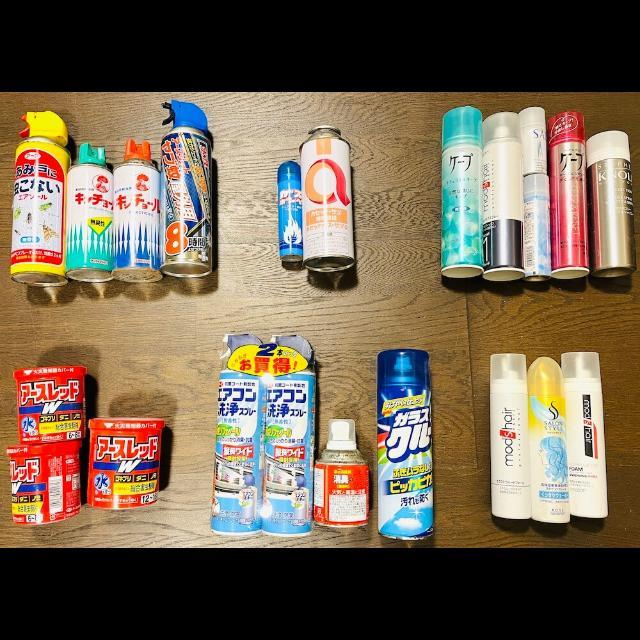chemical_spray_can: (378, 349, 435, 541), (9, 111, 70, 286), (160, 99, 212, 277), (300, 125, 355, 272), (563, 352, 609, 519), (588, 130, 638, 277), (442, 105, 484, 277), (548, 111, 591, 279), (112, 138, 162, 282), (484, 111, 526, 281), (529, 357, 571, 524), (491, 354, 532, 520), (65, 142, 113, 282), (525, 173, 552, 281), (278, 160, 303, 270), (520, 106, 548, 175)
